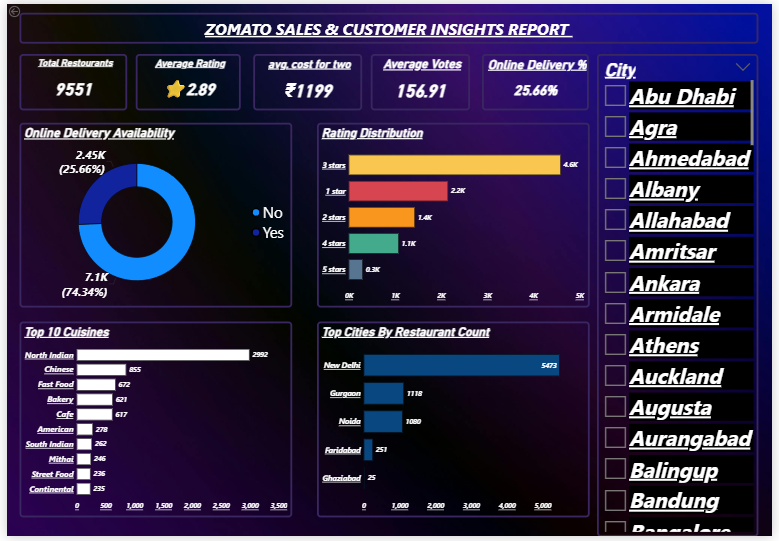

The dashboard page shown, as its layout file describes it:
{"tool":"powerbi","page":{"name":"Page 1","canvas":[2040,1420],"ordinal":0},"visuals":[{"type":"textbox","box":[32.5,22.5,1970,82.5],"z":0},{"type":"card","title":"Total Restourants","fields":{"Values":["CountNonNull(pandasdb zomato_analysis.RestaurantID)"]},"box":[32.5,132.5,287.5,150],"z":1000},{"type":"card","title":"Average Rating","fields":{"Values":["pandasdb zomato_analysis.avr_rating"]},"box":[342.5,132.5,280,150],"z":2000},{"type":"actionButton","box":[0,0,100,40],"z":3000},{"type":"card","title":"avg. cost for two","fields":{"Values":["pandasdb zomato_analysis.avr_cost_for_two"]},"box":[655,132.5,290,150],"z":4000},{"type":"card","title":"Average Votes","fields":{"Values":["pandasdb zomato_analysis.avr_votes"]},"box":[970,132.5,265,150],"z":5000},{"type":"card","title":"Online Delivery %","fields":{"Values":["pandasdb zomato_analysis.Online Delivery %"]},"box":[1267.5,132.5,285,150],"z":6000},{"type":"clusteredBarChart","title":"Rating Distribution","fields":{"Category":["pandasdb zomato_analysis.RatingCategory"],"Y":["CountNonNull(pandasdb zomato_analysis.RestaurantID)"]},"box":[825,315,727.5,492.5],"z":7000},{"type":"clusteredBarChart","title":"Top Cities By Restaurant Count","fields":{"Category":["pandasdb zomato_analysis.City"],"Y":["CountNonNull(pandasdb zomato_analysis.RestaurantID)"]},"box":[825,847.5,727.5,522.5],"z":7001},{"type":"donutChart","title":"Online Delivery Availability","fields":{"Category":["pandasdb zomato_analysis.Has_Online_delivery"],"Y":["CountNonNull(pandasdb zomato_analysis.RestaurantID)"]},"box":[32.5,315,727.5,492.5],"z":7002},{"type":"barChart","title":"Top 10 Cuisines","fields":{"Category":["pandasdb zomato_analysis.Cuisines 1"],"Y":["CountNonNull(pandasdb zomato_analysis.RatingCategory)"]},"box":[32.5,847.5,727.5,522.5],"z":7003},{"type":"slicer","fields":{"Values":["pandasdb zomato_analysis.City"]},"box":[1572.5,132.5,430,1287.5],"z":7004}]}

Visuals, with their boxes in screenshot pixels (x1, y1, x2, y2), scaled from the page's 2040x1420 canvas onto the 779x541 screenshot:
textbox: <bbox>12, 9, 765, 40</bbox>
"Total Restourants" card: <bbox>12, 50, 122, 108</bbox>
"Average Rating" card: <bbox>131, 50, 238, 108</bbox>
actionButton: <bbox>0, 0, 38, 15</bbox>
"avg. cost for two" card: <bbox>250, 50, 361, 108</bbox>
"Average Votes" card: <bbox>370, 50, 472, 108</bbox>
"Online Delivery %" card: <bbox>484, 50, 593, 108</bbox>
"Rating Distribution" clusteredBarChart: <bbox>315, 120, 593, 308</bbox>
"Top Cities By Restaurant Count" clusteredBarChart: <bbox>315, 323, 593, 522</bbox>
"Online Delivery Availability" donutChart: <bbox>12, 120, 290, 308</bbox>
"Top 10 Cuisines" barChart: <bbox>12, 323, 290, 522</bbox>
slicer - pandasdb zomato_analysis.City: <bbox>600, 50, 765, 540</bbox>
